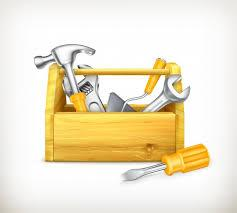hammer: (31, 41, 96, 113)
